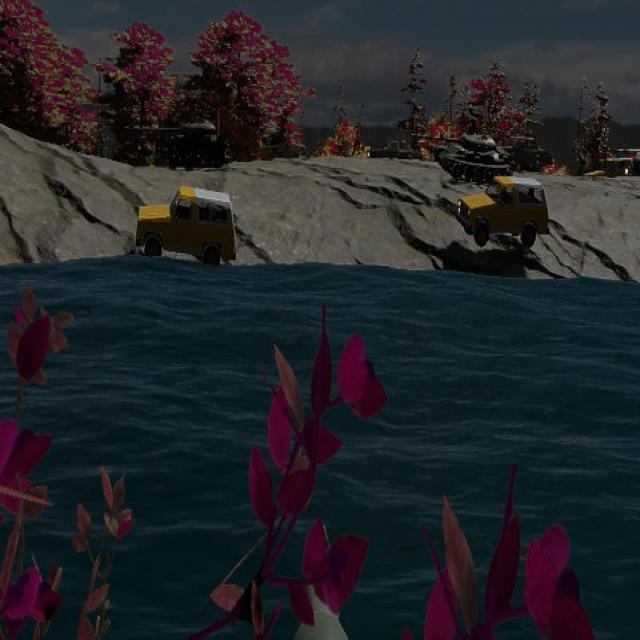Tank: (132, 116, 232, 170), (415, 131, 513, 184)
car: (135, 184, 236, 268), (457, 175, 549, 250), (501, 133, 551, 172), (501, 134, 550, 171)
